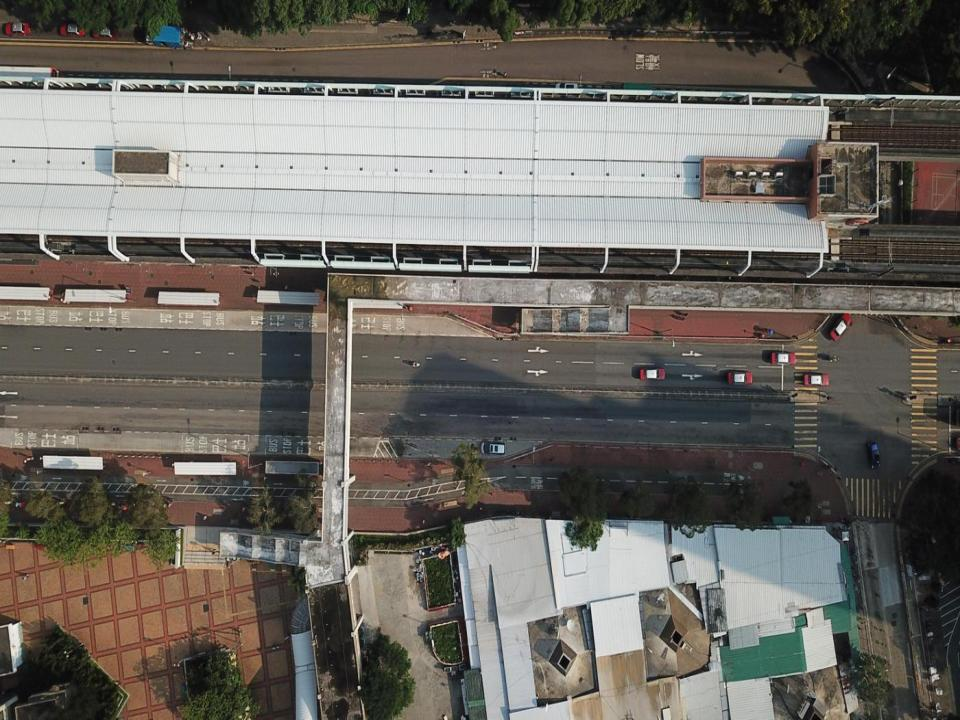car: (829, 312, 852, 342), (726, 369, 754, 386), (770, 349, 796, 366), (3, 21, 31, 36), (90, 25, 118, 40), (639, 366, 666, 381), (802, 371, 829, 386), (480, 441, 506, 456), (867, 440, 880, 469), (60, 23, 85, 37)
